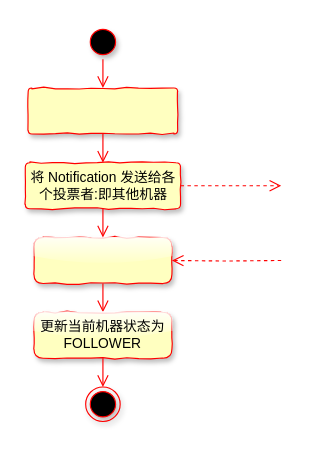
Some shapes in this 313 by 450 pixel diagram are drawn without their labels. Each missing label, with the centre of its shape:
STATUS:LOOKING 准备选票：选自己: point (103, 112)
接收其他机器的返回的 Notification: point (103, 262)
